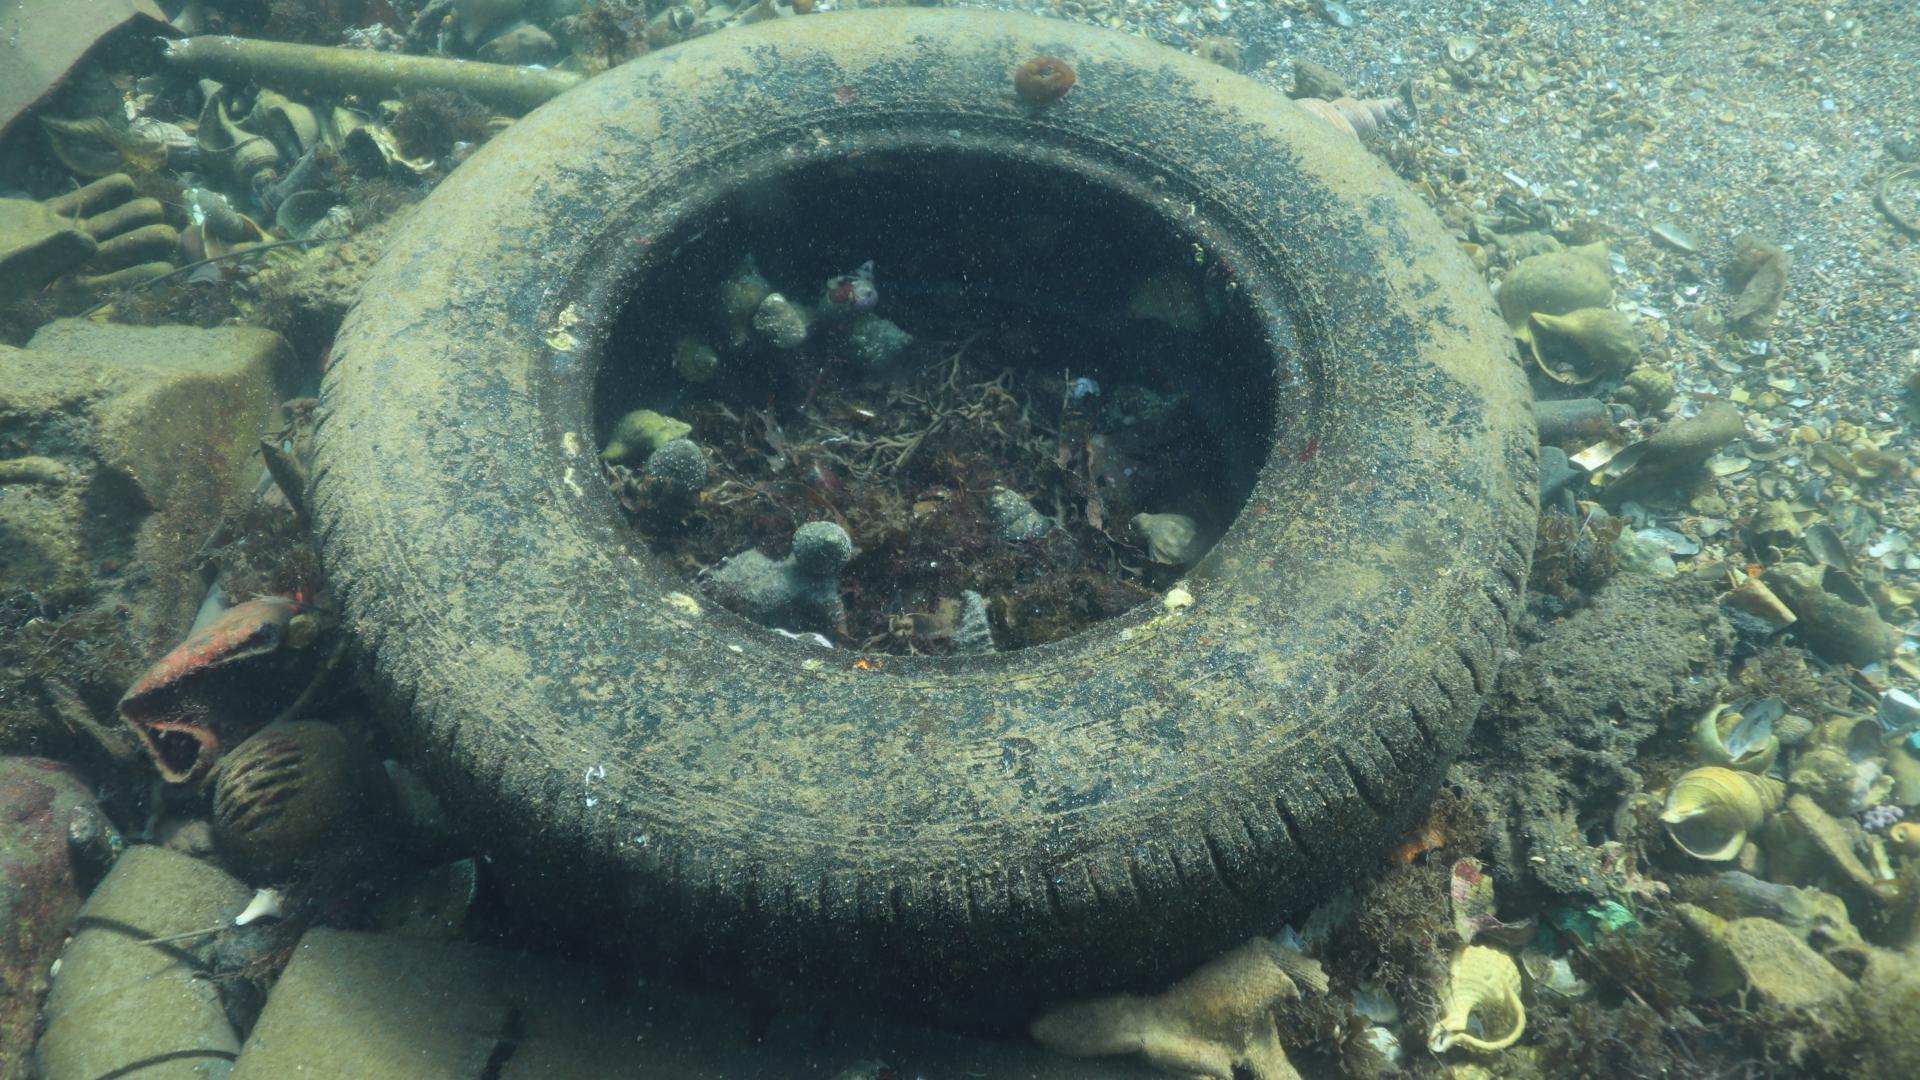tire: (310, 0, 1542, 1029)
